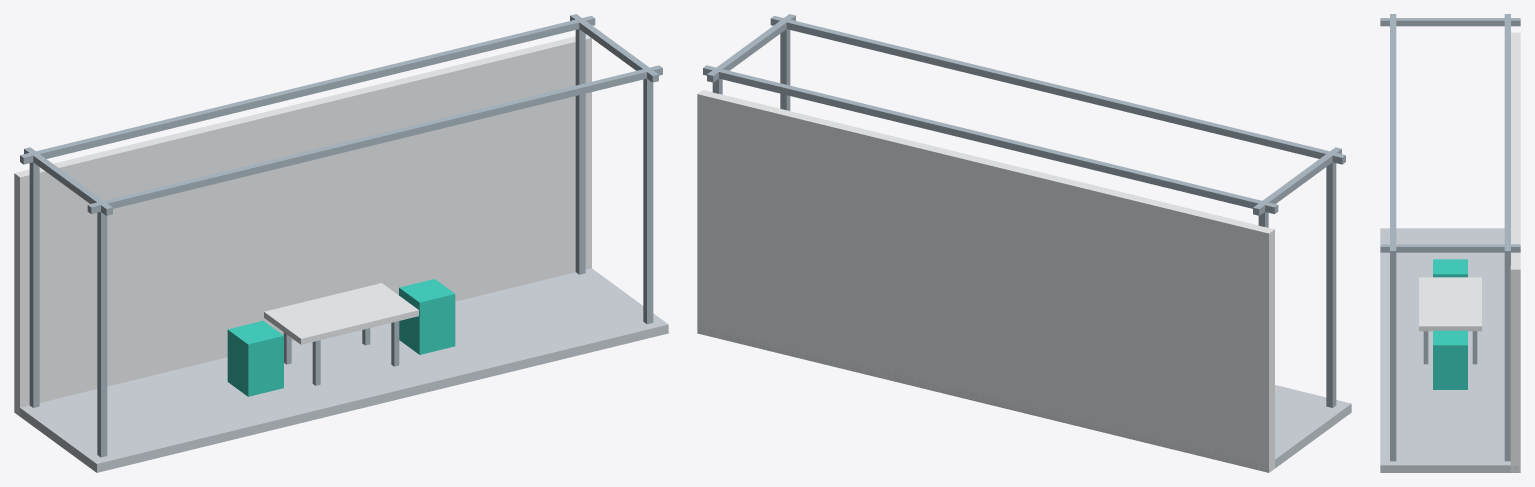
3 renders of one model, left to right at view 1: azimuth 30°, elevation 25°; view 2: azimuth 150°, elevation 25°; view 3: azimuth 270°, elevation 25°, orthographic. The views are drawn at different scales.
Parts seen in each view (by area): view 1: Exhibition Booth Concept; view 2: Exhibition Booth Concept; view 3: Exhibition Booth Concept.
Boxes of the visible parts, x1,y1,x2,y2 form: Exhibition Booth Concept: (14,14,668,472); Exhibition Booth Concept: (697,14,1351,472); Exhibition Booth Concept: (1380,14,1520,472).
Bounding box in the file's own units: 8 × 3.49 × 2.
